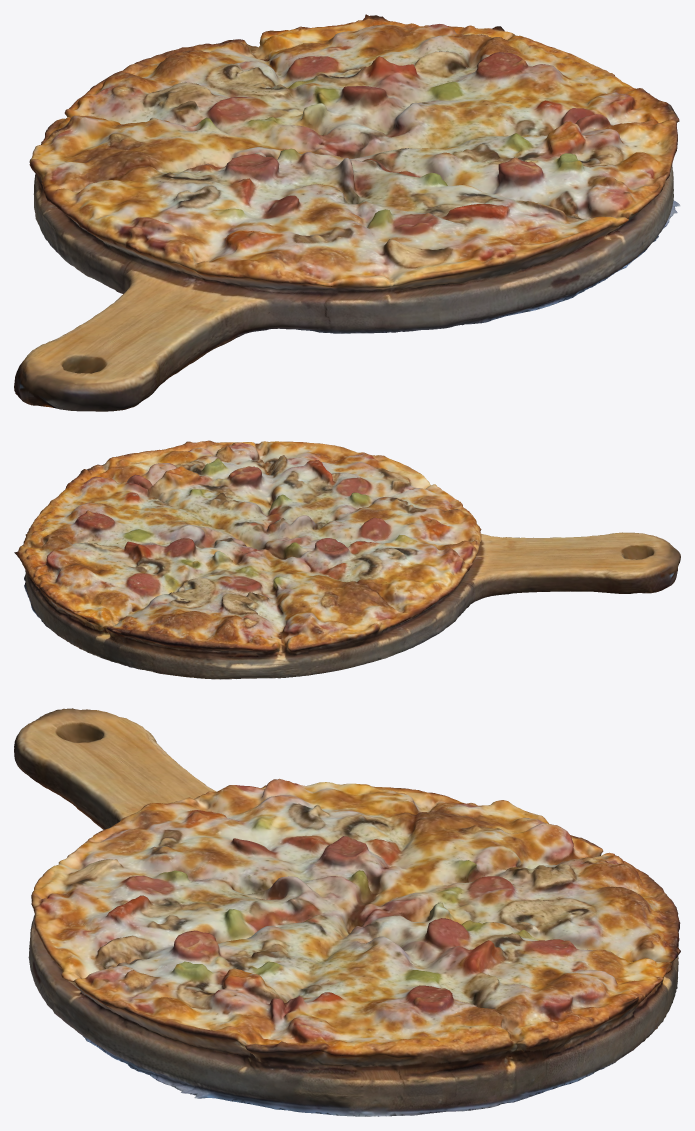
Rendered from Pizza.Sosis.glb.
3 views of the same model, one above another, from view 1: azimuth 30°, elevation 25°; view 2: azimuth 150°, elevation 25°; view 3: azimuth 270°, elevation 25° (orthographic). The views are drawn at different scales.
Parts seen in each view (by area): view 1: 3DModel; view 2: 3DModel; view 3: 3DModel.
Part boxes in pixels (x1=…): 3DModel: x1=14, y1=14, x2=680, y2=411; 3DModel: x1=14, y1=440, x2=680, y2=679; 3DModel: x1=14, y1=708, x2=680, y2=1116.
Bounding box in the file's own units: 0.3961 × 0.0447 × 0.3057.
Materials: 1 (1 with a texture image).
